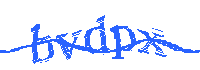b: (29, 22, 54, 64)
d: (85, 13, 109, 55)
p: (109, 22, 137, 62)
v: (52, 30, 83, 62)
x: (137, 27, 168, 58)
